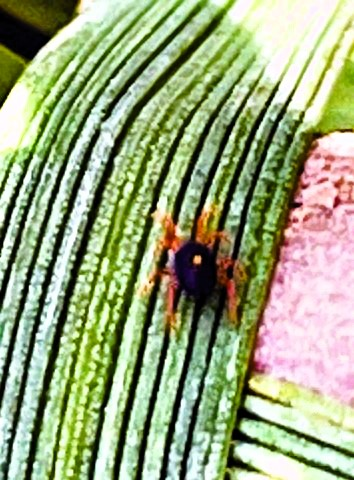Wheat Red Spider: (134, 198, 258, 334)
